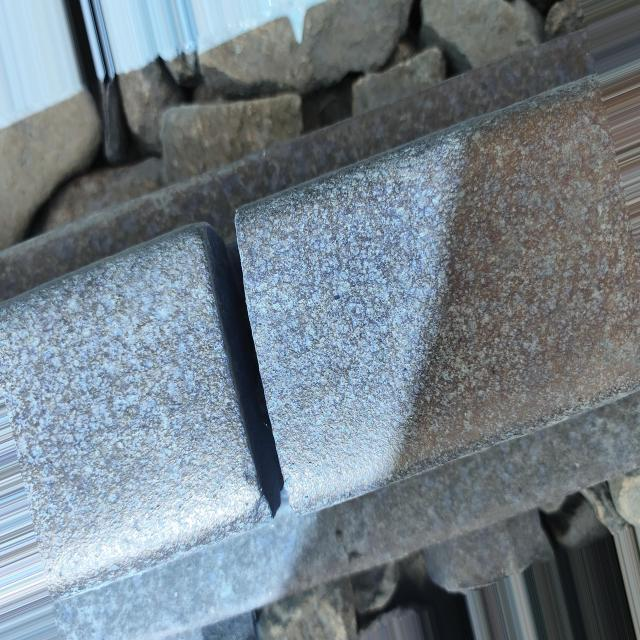crack: (156, 197, 355, 518)
